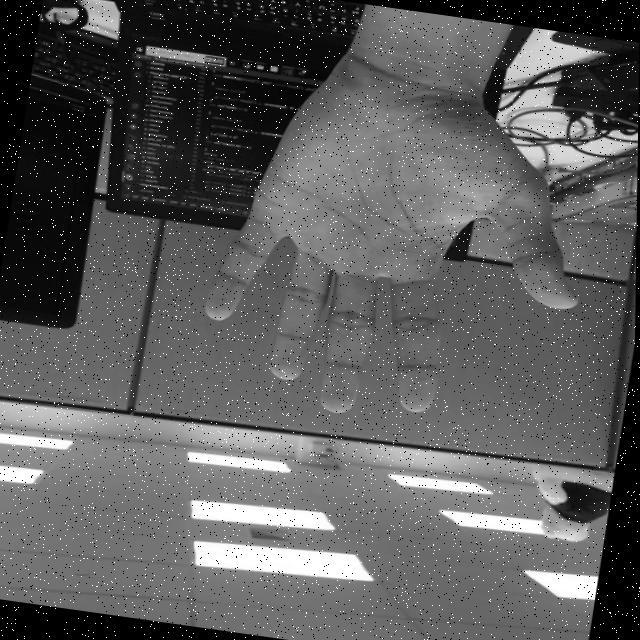no-gloves: (186, 39, 611, 447)
